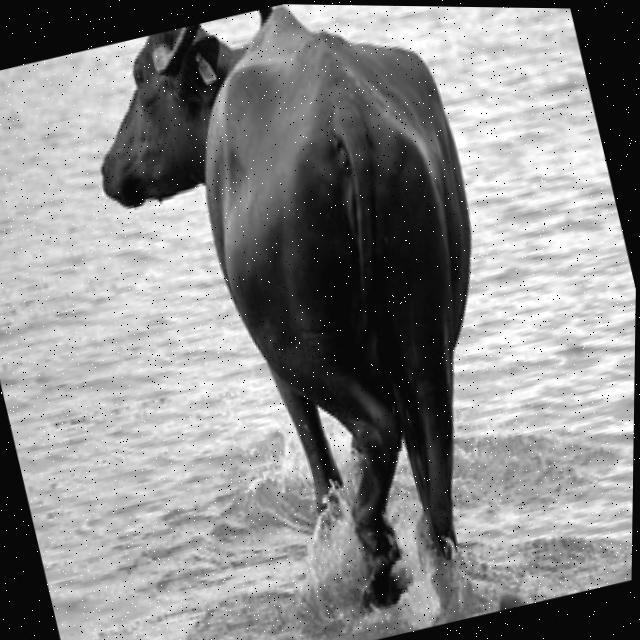Buffalo: (60, 1, 563, 640)
